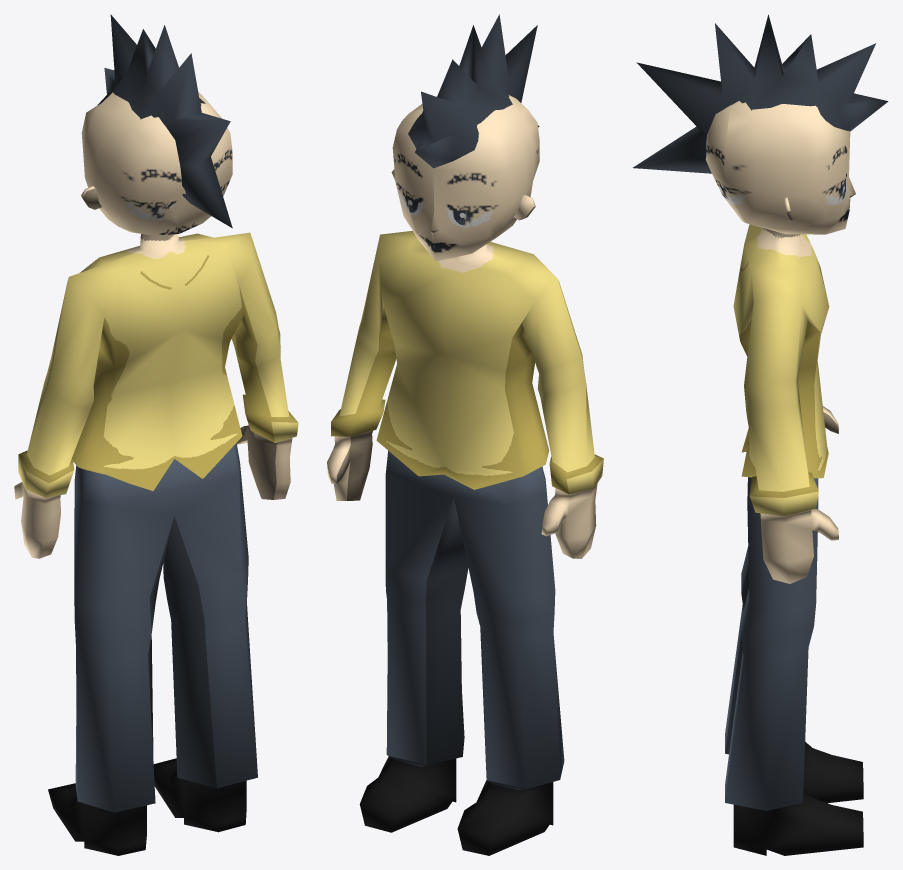
Rendered from M MOHAWK.glb.
The picture shows the model from 3 angles, left to right: view 1: azimuth 30°, elevation 25°; view 2: azimuth 150°, elevation 25°; view 3: azimuth 270°, elevation 25°; orthographic projection. The views are drawn at different scales.
Parts seen in each view (by area): view 1: MEN OFFICE, MOHAWK; view 2: MEN OFFICE, MOHAWK; view 3: MEN OFFICE, MOHAWK.
Boxes of the visible parts, <box> form: MEN OFFICE: <box>14,232,298,855</box>; MOHAWK: <box>81,14,232,235</box>; MEN OFFICE: <box>327,231,603,855</box>; MOHAWK: <box>392,14,539,261</box>; MEN OFFICE: <box>725,224,863,855</box>; MOHAWK: <box>633,14,888,234</box>.
Bounding box in the file's own units: 3.32 × 9.7 × 2.81.
4 materials, 4 textured.
